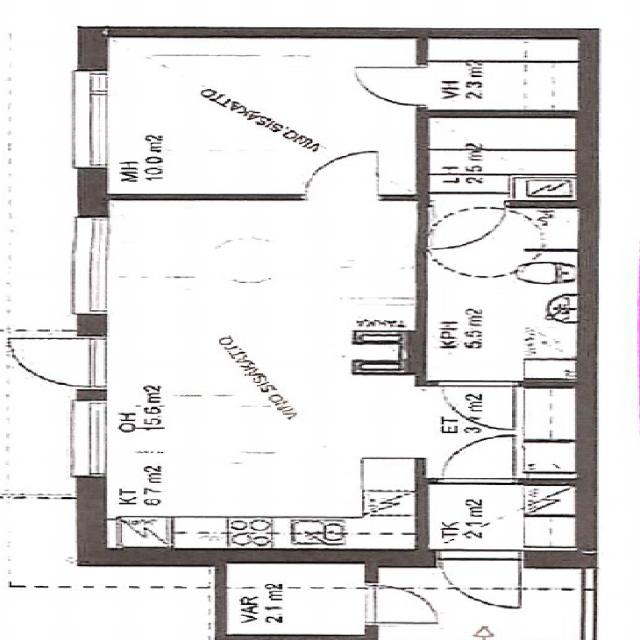door: (439, 550, 522, 617), (0, 339, 107, 386), (442, 381, 514, 431), (444, 436, 516, 486), (434, 201, 505, 250), (306, 152, 377, 201), (366, 585, 441, 623), (353, 67, 426, 105)
